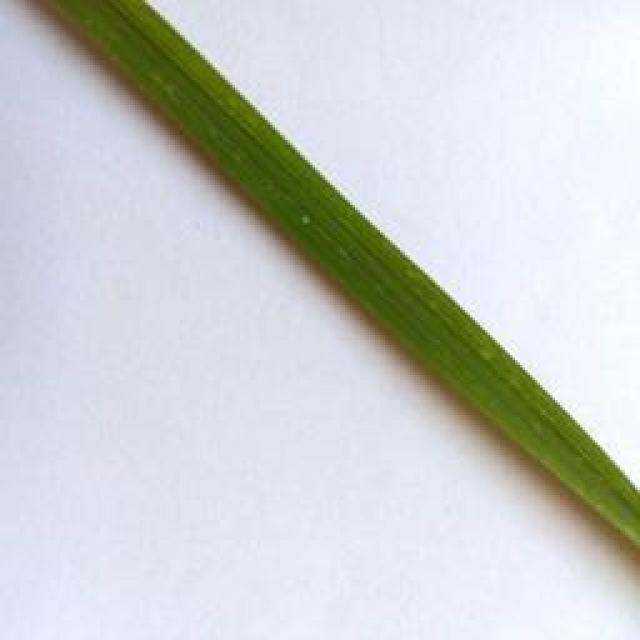Healthy-Plant: (45, 0, 640, 548)
